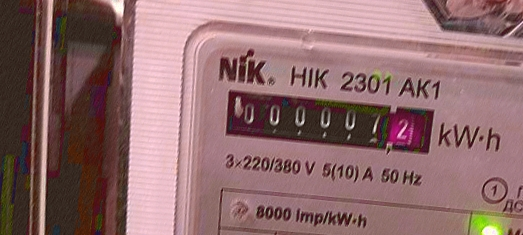0: (238, 100, 255, 126), (315, 106, 332, 130), (340, 107, 356, 132), (290, 104, 306, 128), (264, 103, 280, 126)
2: (393, 117, 408, 141)
7: (366, 110, 381, 135)
screen: (210, 76, 443, 167)
